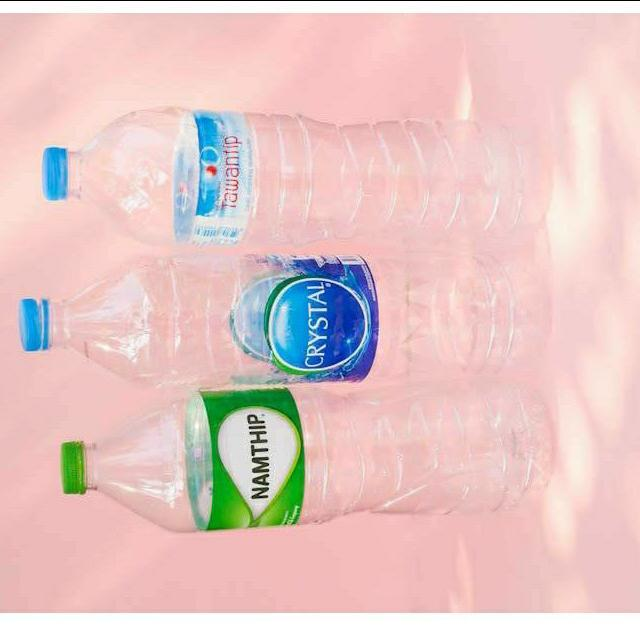PET Bottle: (0, 95, 640, 261), (18, 384, 594, 550), (0, 252, 614, 397)
